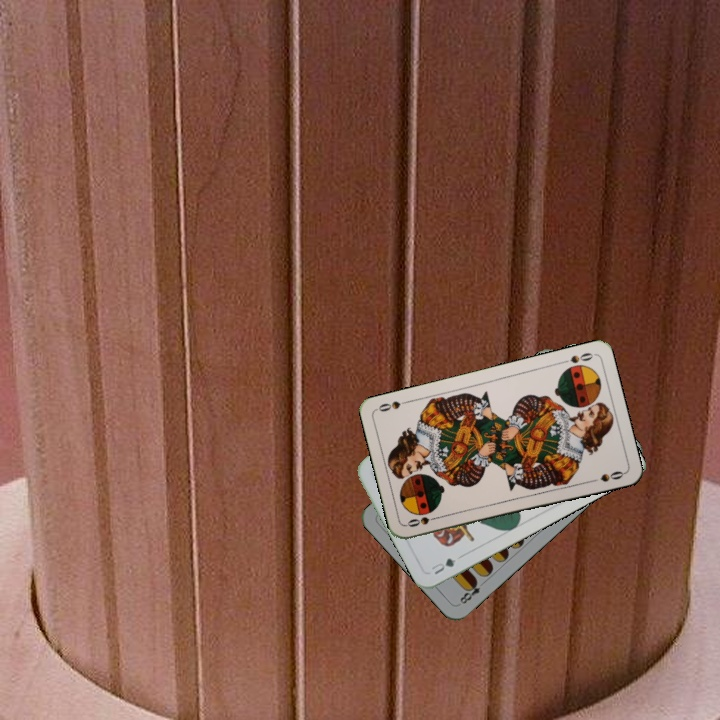E8: (455, 576, 489, 607)
GU: (427, 554, 459, 577)
SO: (403, 512, 443, 530), (556, 349, 596, 366)
